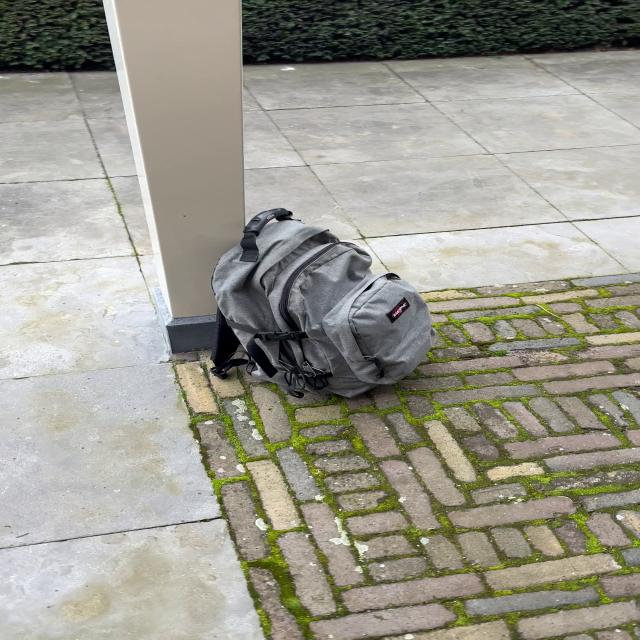backpack: (198, 203, 444, 407)
